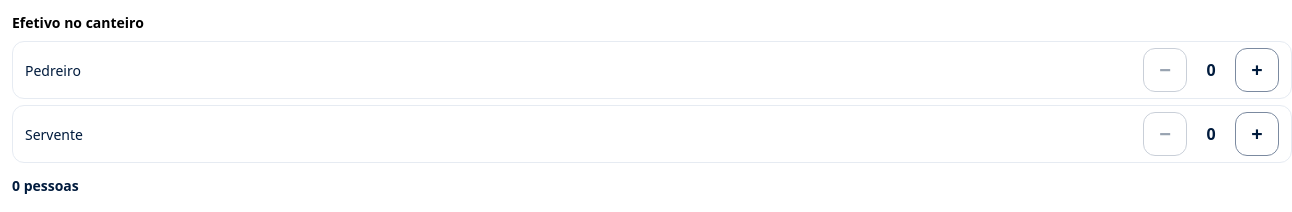
it: EfetivoPorFuncao › os contadores e o total acompanham os cliques
The image size is (1292, 212).
Click the button named "Aumentar Pedreiro" at (1257, 70), box left=1235, top=48, right=1279, bottom=92
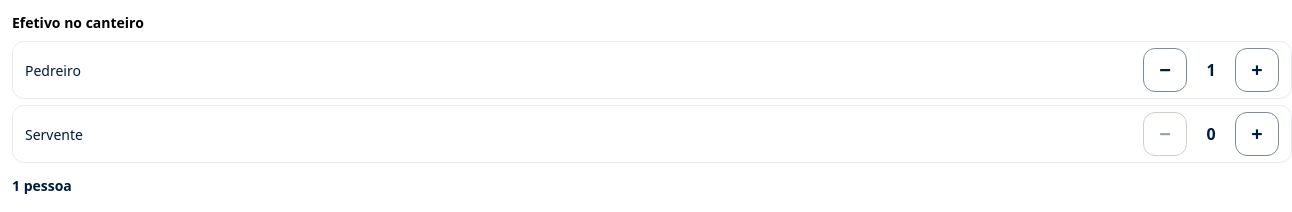
Click the button named "Aumentar Pedreiro" at (1257, 70), box left=1235, top=48, right=1279, bottom=92
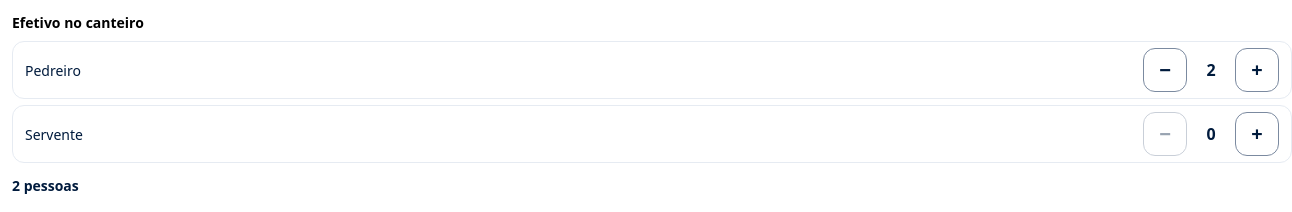
Click the button named "Aumentar Servente" at (1257, 134), box left=1235, top=112, right=1279, bottom=156
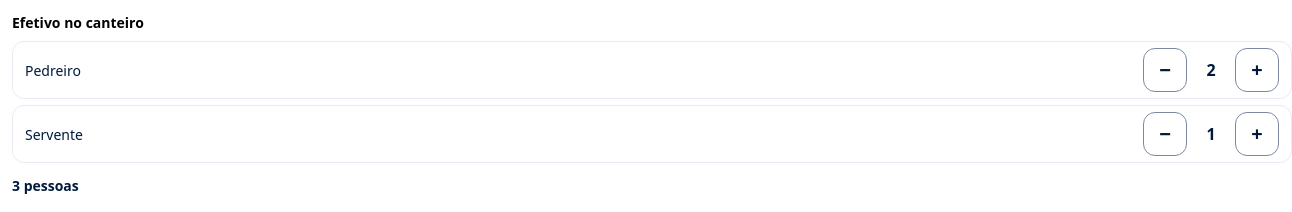
Now the text "3 pessoas" is shown, box left=12, top=176, right=79, bottom=195
Click the button named "Diminuir Pedreiro" at (1165, 70), box left=1143, top=48, right=1187, bottom=92
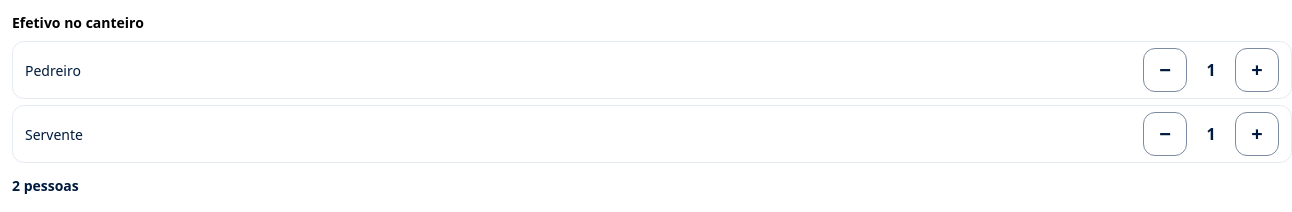
Now the text "2 pessoas" is shown, box left=12, top=176, right=79, bottom=195
